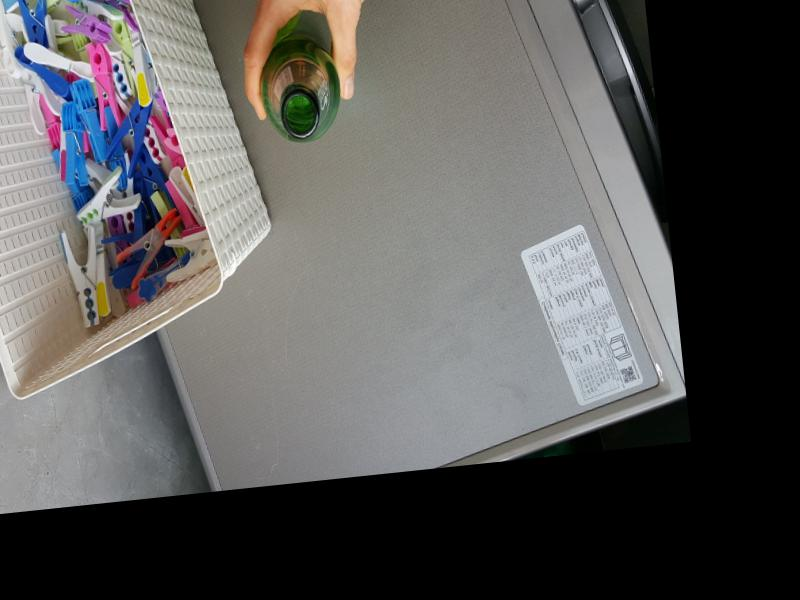Beer: (255, 26, 345, 146)
